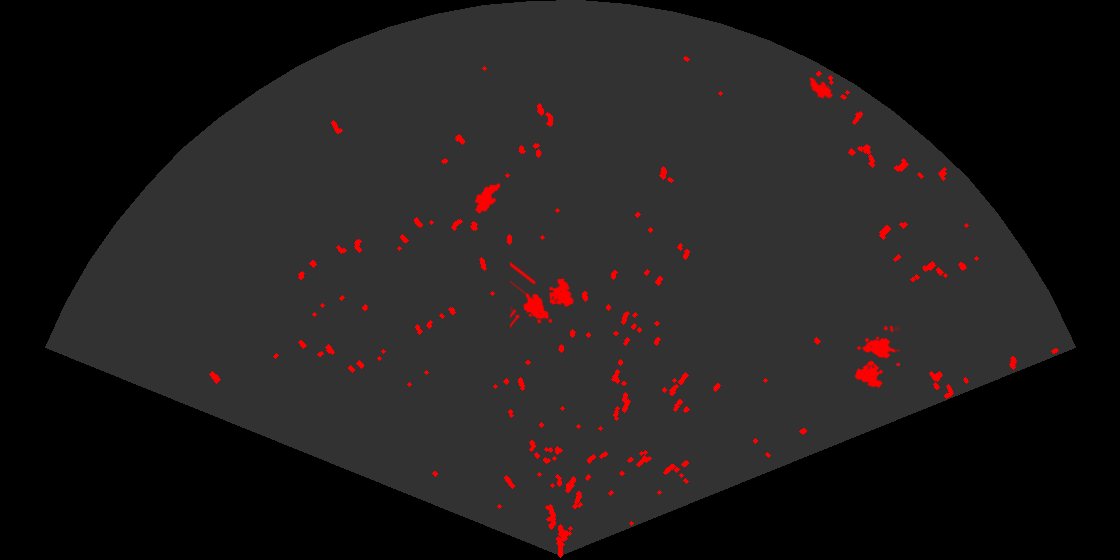AUV: (473, 181, 502, 215), (808, 76, 835, 100)
cage: (510, 261, 575, 330), (853, 326, 900, 390)
